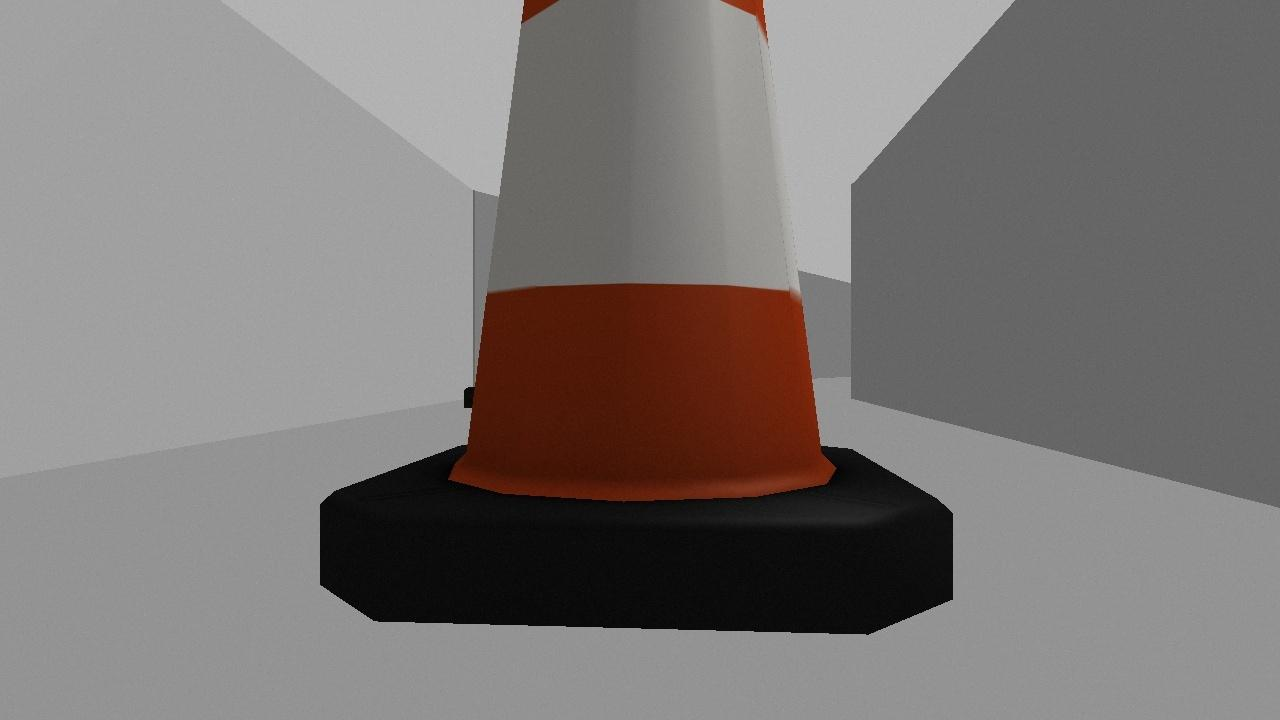cone_barrel: (286, 0, 977, 649)
